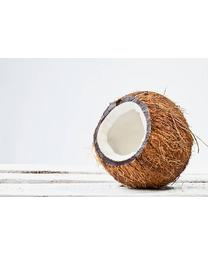coconut: (93, 91, 195, 190)
